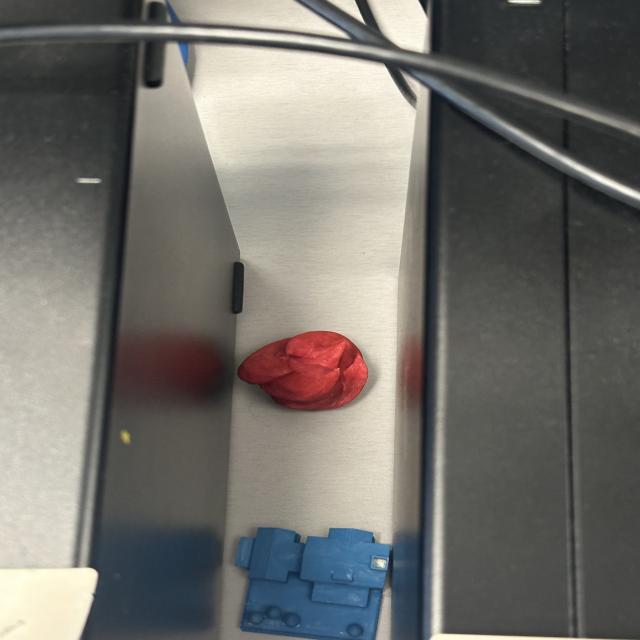fire: (235, 327, 371, 412)
house: (230, 521, 396, 637)
